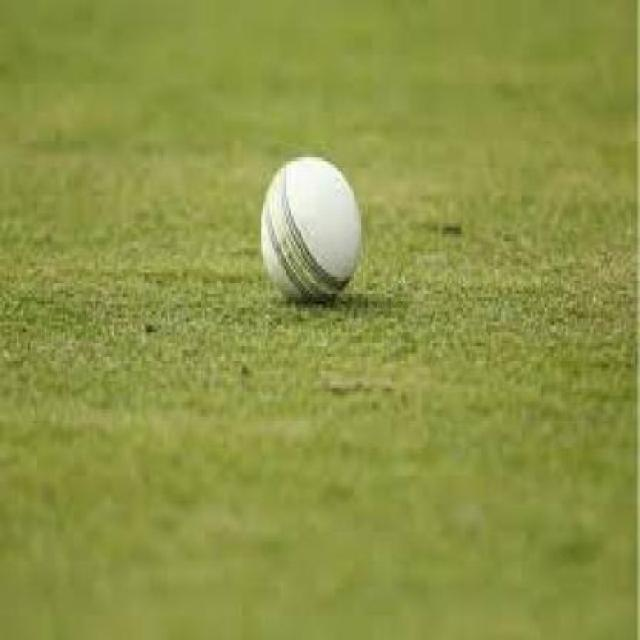ball: (163, 90, 449, 376)
